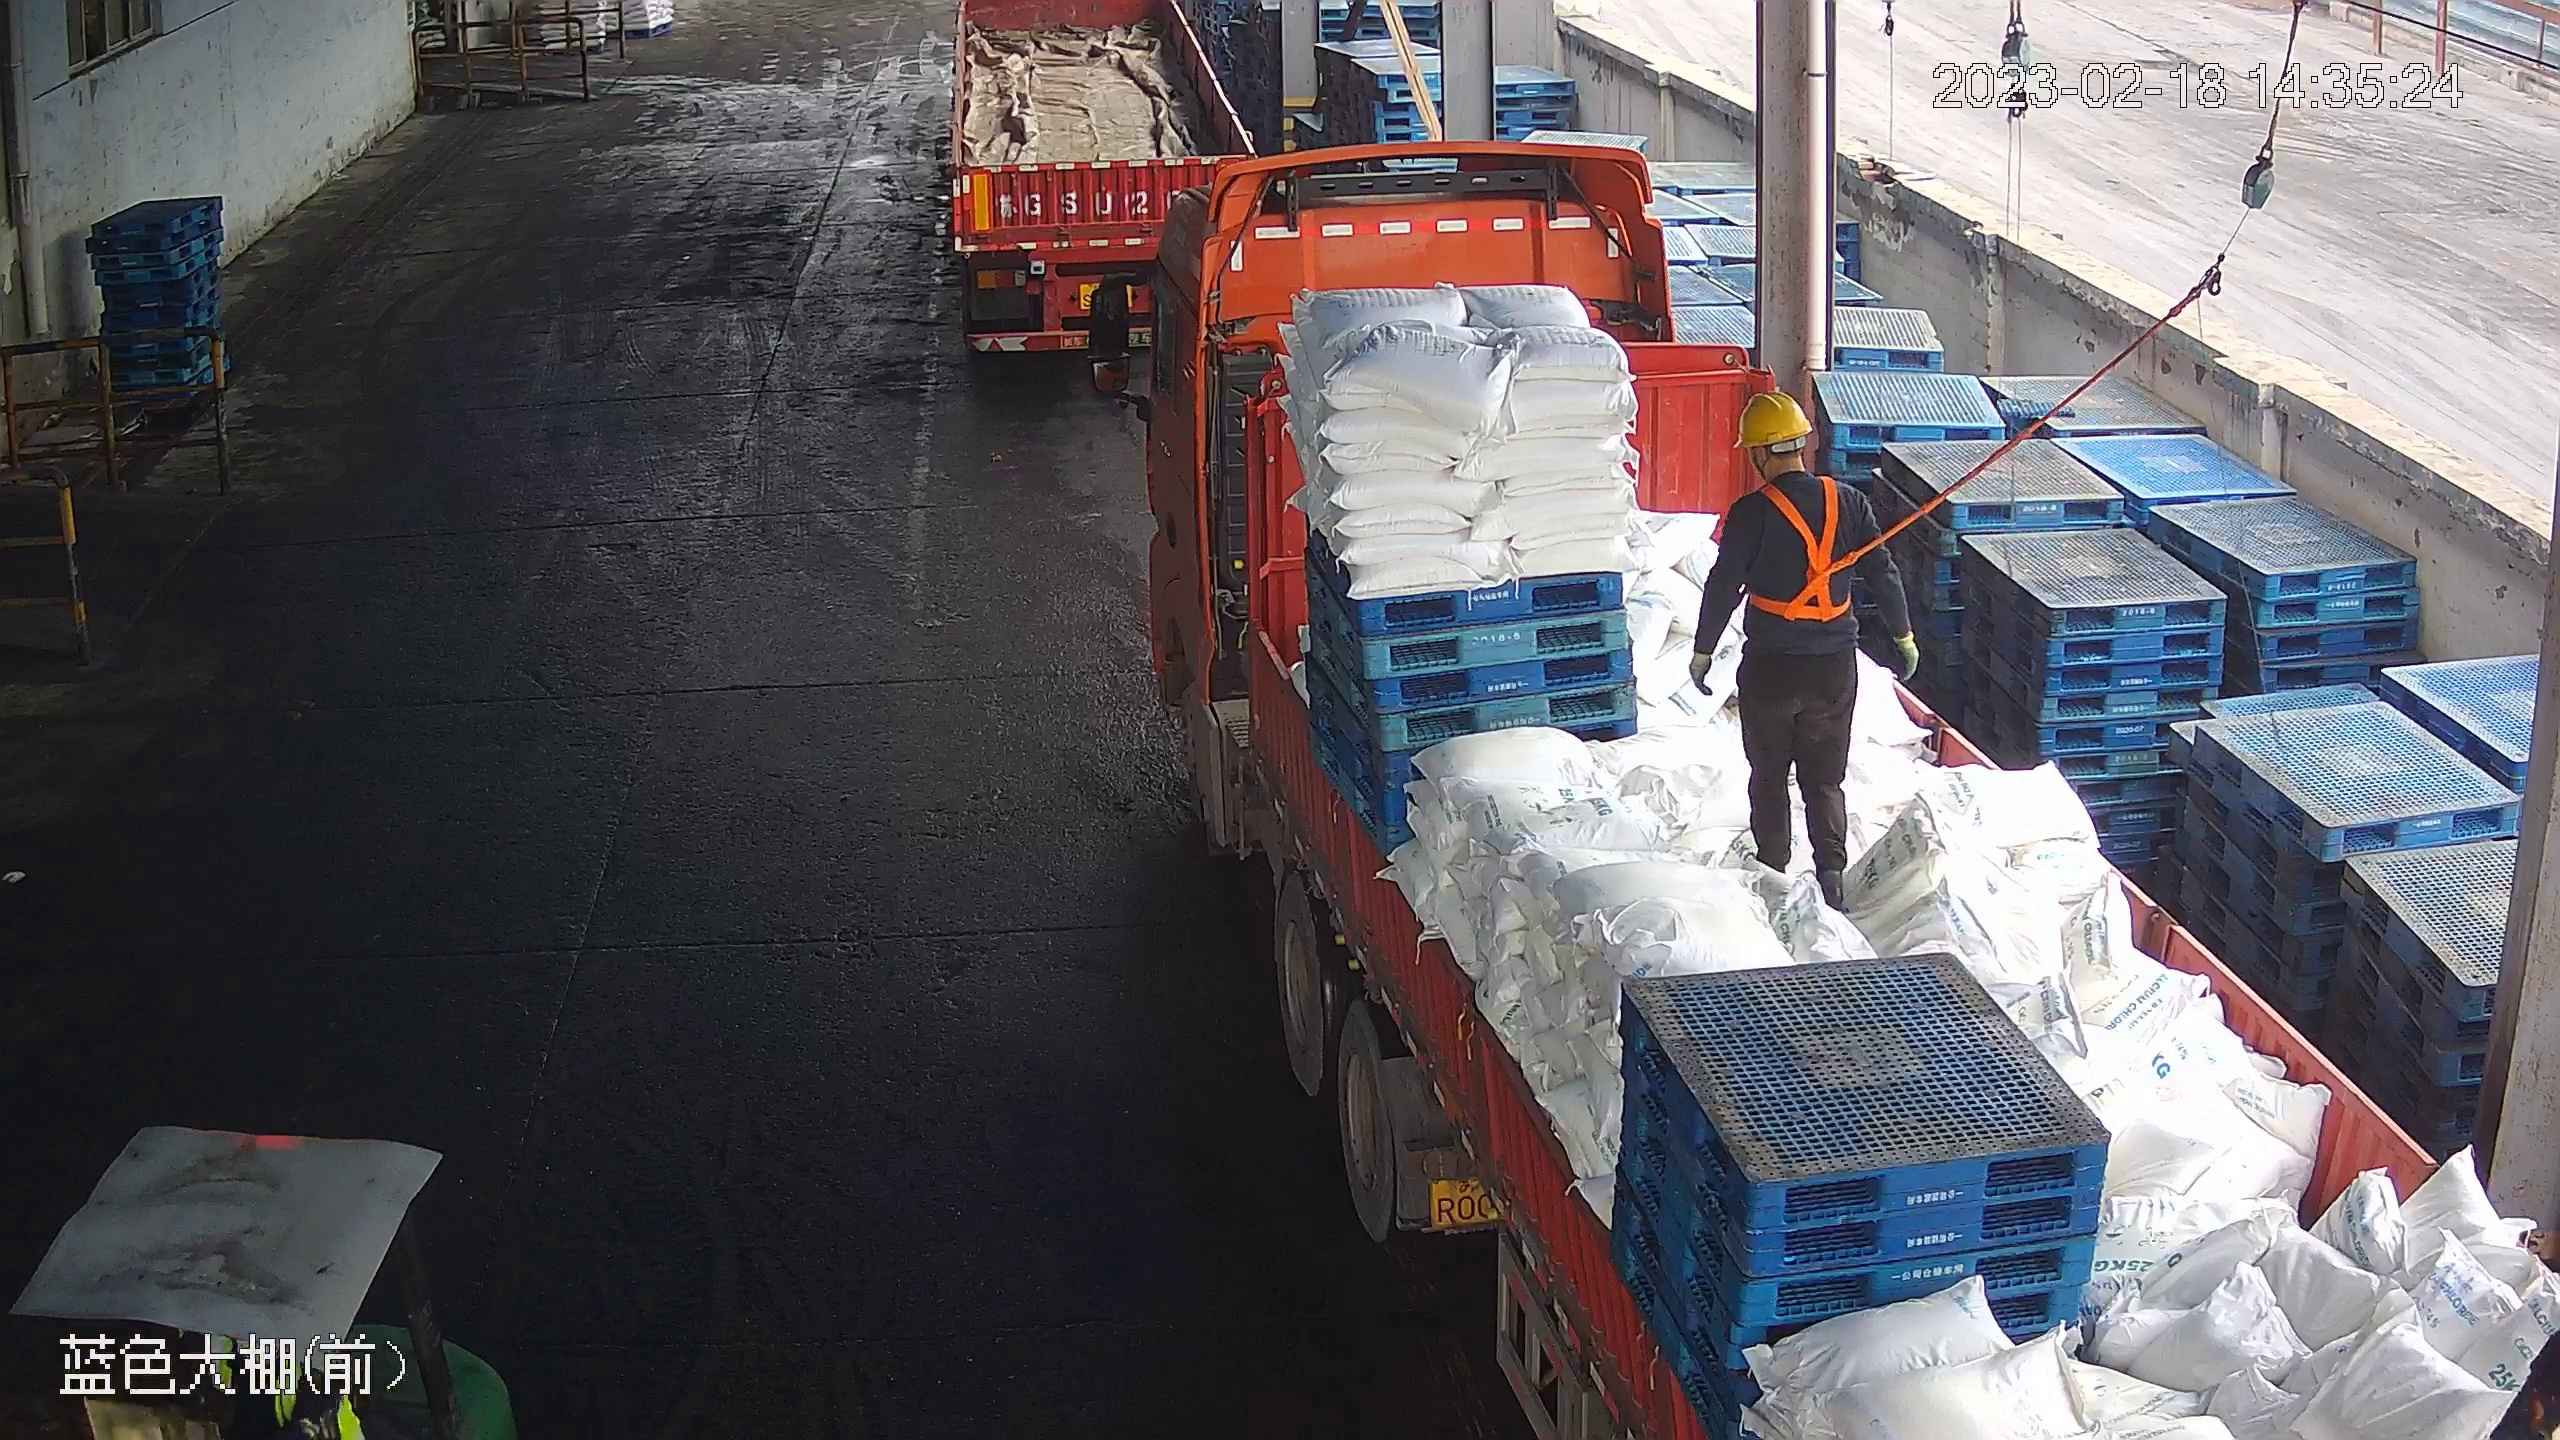belt: (1731, 473, 1890, 630)
head: (1701, 393, 1872, 573)
helmet: (1734, 390, 1815, 450)
people: (1688, 389, 1930, 923)
truck: (1091, 128, 2560, 1440), (937, 1, 1264, 401)
